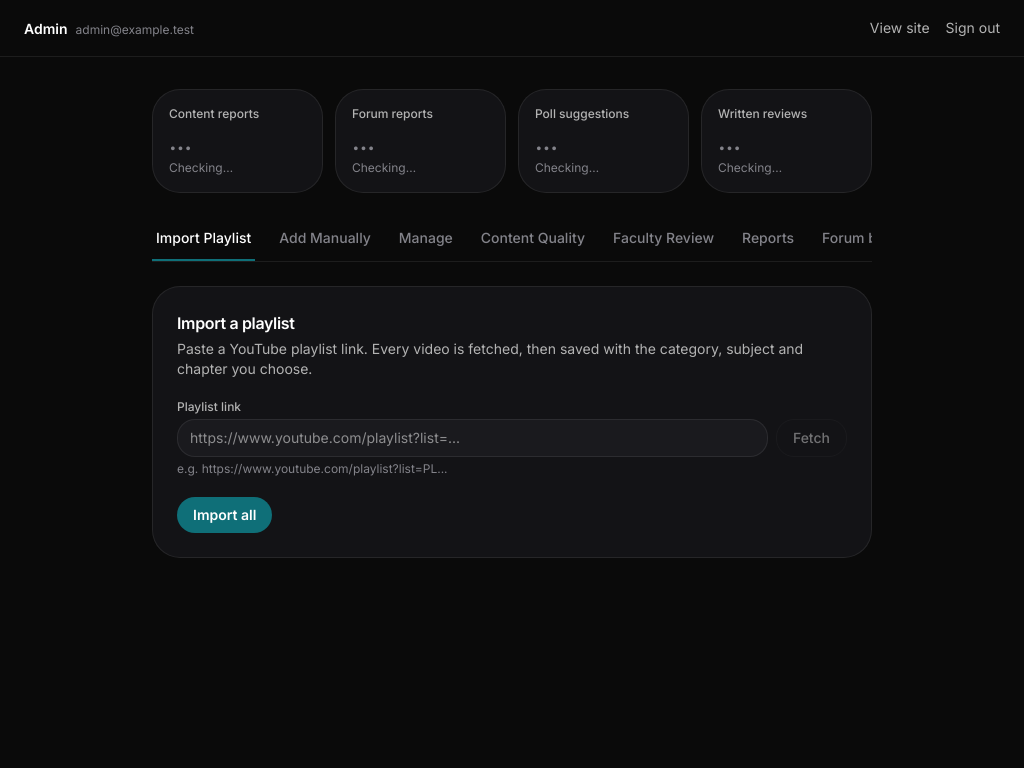
Test: AdminPanel Reports tab › shows an empty state when there are no open reports
Click the button "Reports". click: (768, 239)
box: [738, 217, 798, 261]
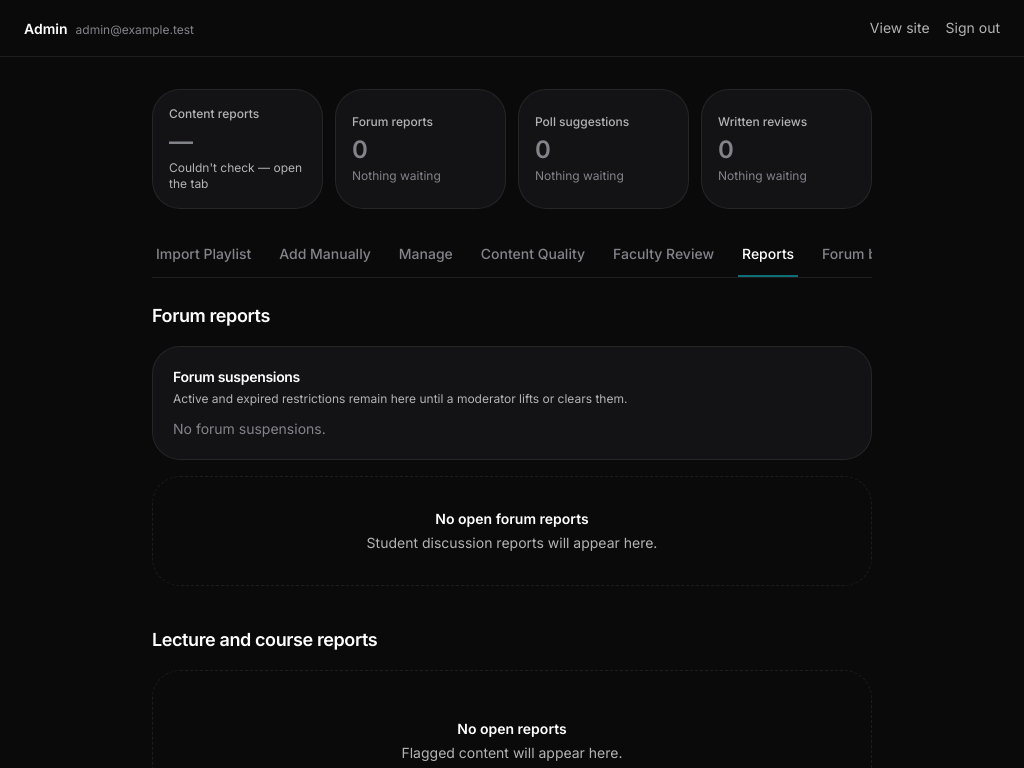
Expected: the text "No open reports" is shown, [457, 720, 567, 737]
